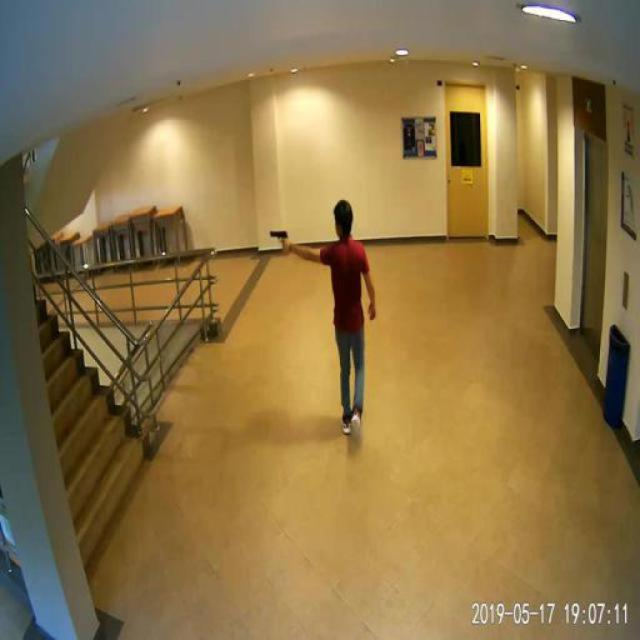pistol: (268, 228, 286, 250)
